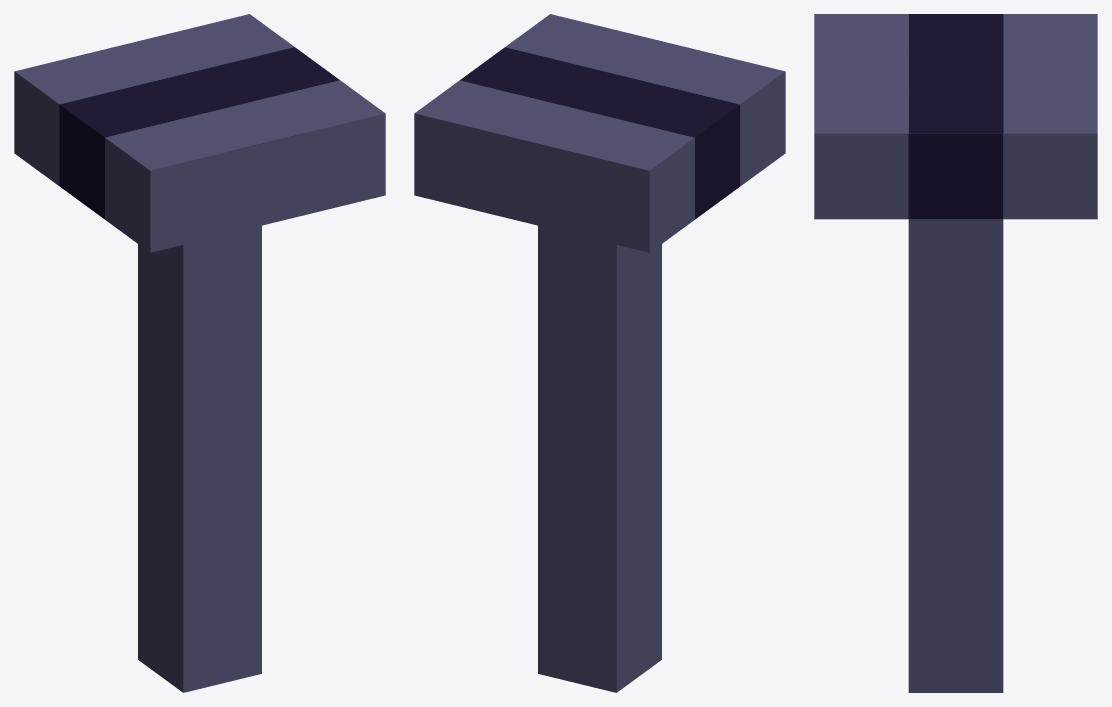
File: IKEA_Tornillo.fbx
3 renders of one model, left to right at view 1: azimuth 30°, elevation 25°; view 2: azimuth 150°, elevation 25°; view 3: azimuth 270°, elevation 25°, orthographic. The views are drawn at different scales.
Visible parts, largest first — view 1: IKEA_Tornillo; view 2: IKEA_Tornillo; view 3: IKEA_Tornillo.
Boxes of the visible parts, <box> form: IKEA_Tornillo: <box>14,14,385,692</box>; IKEA_Tornillo: <box>414,14,785,692</box>; IKEA_Tornillo: <box>814,14,1097,692</box>.
Bounding box in the file's own units: 30 × 70 × 30.
